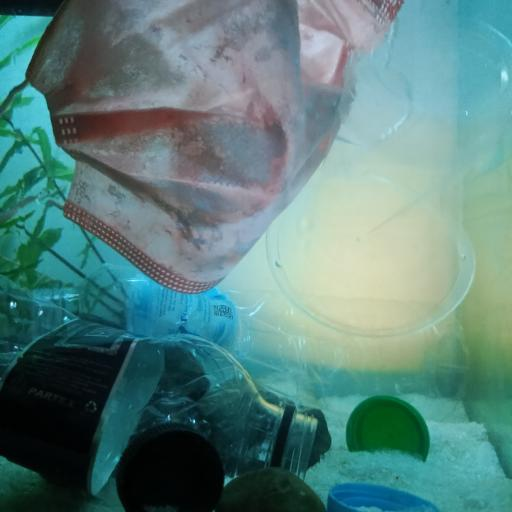bottle_cap: (118, 423, 224, 512), (342, 397, 430, 458), (334, 480, 440, 512)
mask: (17, 0, 403, 295)
plastic_bottle: (0, 268, 316, 492), (30, 276, 472, 410)
plastic_cup: (271, 0, 512, 341)
